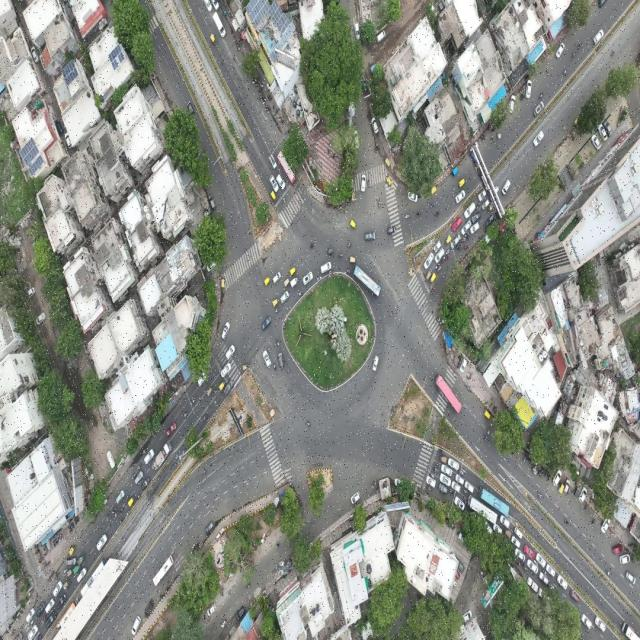3W: (67, 540, 78, 557), (262, 272, 273, 288), (65, 562, 74, 581), (428, 182, 438, 198), (482, 405, 492, 421), (270, 295, 281, 309), (62, 575, 71, 592), (349, 216, 358, 233), (76, 553, 86, 568), (206, 381, 214, 399), (451, 163, 460, 179), (240, 359, 251, 372), (72, 563, 82, 577), (127, 494, 136, 509), (457, 174, 466, 189), (573, 481, 580, 500), (326, 244, 336, 257), (348, 252, 358, 265), (438, 452, 448, 465), (209, 33, 218, 47), (504, 526, 513, 540), (218, 377, 226, 392), (270, 188, 278, 203), (557, 482, 565, 497), (429, 272, 438, 285), (219, 275, 226, 290), (444, 234, 452, 247), (283, 277, 291, 289), (289, 266, 297, 278), (384, 156, 391, 169), (425, 270, 432, 283), (486, 205, 494, 214), (387, 177, 392, 189)
Bus: (434, 372, 465, 416), (78, 555, 109, 598), (353, 261, 383, 299), (478, 484, 511, 517), (465, 494, 500, 525), (54, 596, 81, 635), (148, 552, 176, 588), (277, 150, 297, 187), (618, 618, 640, 640)
Cars: (595, 118, 609, 143), (368, 349, 380, 378), (553, 40, 567, 63), (95, 532, 109, 554), (267, 172, 279, 197), (599, 514, 612, 537), (144, 596, 155, 622), (532, 127, 545, 149), (450, 214, 465, 233), (261, 345, 272, 370), (452, 189, 467, 207), (44, 609, 56, 631), (260, 314, 273, 334), (186, 98, 196, 124), (507, 92, 517, 118), (463, 199, 476, 219), (580, 612, 593, 632), (453, 495, 468, 512), (130, 615, 142, 636), (165, 419, 177, 440), (349, 489, 363, 507), (221, 319, 231, 344), (143, 448, 156, 467), (591, 28, 604, 47), (624, 568, 637, 587), (593, 614, 606, 633), (76, 566, 88, 586), (590, 134, 602, 154), (320, 259, 334, 276), (532, 101, 545, 119), (461, 219, 474, 237), (52, 579, 64, 598), (220, 361, 232, 380), (225, 343, 237, 362), (235, 604, 247, 623), (526, 559, 540, 575), (301, 269, 314, 286), (374, 28, 387, 45), (500, 179, 513, 196), (552, 467, 562, 489), (55, 593, 67, 611), (557, 574, 569, 592), (535, 552, 549, 567), (523, 544, 537, 559), (205, 601, 218, 617), (44, 598, 56, 615), (569, 588, 581, 605), (223, 380, 234, 398), (352, 129, 361, 151), (370, 114, 379, 136), (423, 252, 434, 270), (270, 270, 283, 285), (451, 480, 464, 495), (425, 474, 438, 489), (27, 624, 39, 640), (612, 542, 624, 558), (208, 193, 218, 212), (279, 290, 290, 307), (434, 247, 445, 264), (545, 565, 558, 579), (514, 548, 528, 561), (499, 516, 513, 529), (448, 457, 462, 470), (441, 463, 454, 477), (439, 473, 453, 486), (25, 606, 35, 624), (36, 600, 46, 618), (268, 153, 278, 171), (276, 174, 286, 192), (407, 190, 419, 205), (579, 486, 588, 506), (539, 572, 551, 587), (492, 522, 504, 537), (204, 521, 215, 537), (525, 78, 533, 100), (450, 235, 461, 251), (604, 118, 613, 137), (459, 356, 468, 375), (115, 488, 125, 505), (484, 213, 494, 230), (364, 230, 377, 243), (202, 0, 214, 14), (360, 171, 367, 195), (619, 554, 631, 568), (134, 470, 144, 486), (197, 372, 207, 388), (481, 196, 491, 212), (563, 477, 571, 497), (514, 526, 526, 539), (353, 21, 360, 43), (141, 477, 151, 492), (470, 221, 480, 236), (361, 76, 368, 97), (66, 555, 78, 567), (433, 239, 442, 255), (511, 536, 523, 548), (464, 480, 476, 492), (454, 473, 466, 485), (437, 484, 451, 494), (278, 350, 285, 369), (471, 212, 482, 224), (478, 189, 488, 202), (210, 0, 220, 12), (386, 224, 396, 236)
LCV: (213, 12, 228, 42), (526, 575, 539, 595), (290, 276, 301, 289)
M2W: (243, 576, 253, 593), (609, 48, 616, 64), (27, 619, 36, 631), (569, 50, 577, 62), (275, 537, 282, 550), (305, 415, 311, 430), (40, 613, 47, 625), (54, 571, 61, 583), (563, 514, 569, 527), (630, 550, 636, 563), (191, 540, 197, 553), (158, 589, 164, 602), (272, 361, 278, 373), (297, 289, 305, 298), (315, 273, 323, 282), (375, 198, 381, 210), (104, 513, 111, 523), (111, 506, 118, 516), (412, 212, 422, 219), (562, 68, 569, 78), (522, 564, 529, 574), (38, 555, 44, 566), (282, 195, 288, 206), (475, 200, 481, 211), (515, 556, 521, 567), (141, 447, 148, 456), (273, 306, 280, 315), (307, 243, 316, 250), (538, 91, 545, 100), (428, 471, 435, 480), (426, 483, 433, 492), (126, 508, 132, 518), (136, 492, 142, 502), (266, 345, 272, 355), (275, 337, 281, 347), (273, 108, 279, 118), (577, 42, 582, 54), (202, 414, 209, 422), (337, 251, 344, 259), (75, 513, 80, 524), (63, 566, 69, 575), (124, 495, 130, 504), (131, 472, 137, 481), (137, 462, 143, 471), (190, 398, 196, 407), (344, 269, 353, 275), (374, 146, 380, 155), (435, 209, 441, 218), (605, 568, 611, 577), (542, 568, 548, 577), (533, 558, 539, 567), (458, 468, 464, 477), (448, 486, 454, 495), (432, 465, 438, 474), (541, 462, 545, 475), (366, 179, 371, 189), (519, 87, 524, 97), (327, 268, 334, 275), (403, 213, 410, 220), (520, 95, 527, 102), (119, 516, 123, 528), (118, 507, 124, 515), (182, 411, 188, 419), (429, 202, 437, 208), (482, 435, 488, 443), (520, 560, 526, 568), (438, 447, 444, 455), (435, 461, 441, 469), (51, 541, 56, 550), (252, 75, 257, 84), (260, 79, 265, 88), (486, 427, 491, 436), (35, 548, 41, 555), (54, 539, 60, 546), (440, 256, 446, 263), (537, 493, 543, 500), (628, 542, 635, 548), (462, 487, 468, 494), (71, 521, 75, 531), (73, 517, 77, 527), (435, 262, 440, 270), (591, 516, 595, 526), (235, 47, 241, 53), (255, 86, 261, 92), (455, 244, 461, 250), (437, 264, 441, 273), (526, 451, 529, 463), (548, 472, 551, 484), (584, 502, 588, 511), (624, 548, 630, 554), (463, 496, 467, 505), (213, 389, 218, 396), (254, 80, 259, 87), (346, 242, 353, 247), (480, 136, 485, 143), (466, 234, 471, 241), (68, 526, 72, 534), (271, 104, 275, 112), (459, 243, 463, 251), (58, 534, 61, 544), (115, 509, 118, 519), (258, 89, 263, 95), (464, 231, 469, 237), (445, 249, 450, 255), (430, 288, 435, 294), (534, 460, 537, 470), (287, 388, 293, 393), (258, 95, 265, 99), (61, 533, 64, 542), (263, 97, 266, 106), (269, 97, 273, 103), (264, 105, 268, 111), (267, 107, 270, 115), (460, 238, 466, 242), (464, 244, 468, 250), (445, 254, 449, 260), (545, 469, 547, 479), (267, 94, 270, 100), (525, 452, 527, 459)
Truck: (150, 441, 176, 474)
